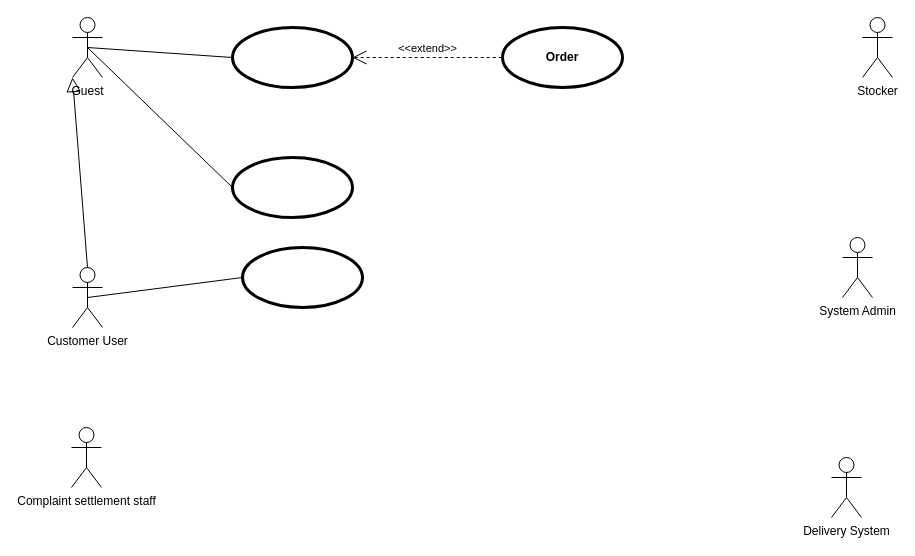
Some shapes in this 915 by 556 pixel diagram are drawn without their labels. The centre of each missing label's shape, as x and y in pixels:
"Sign in" belongs at (302,277).
"Sign up" belongs at (292,187).
"View" belongs at (292,57).
